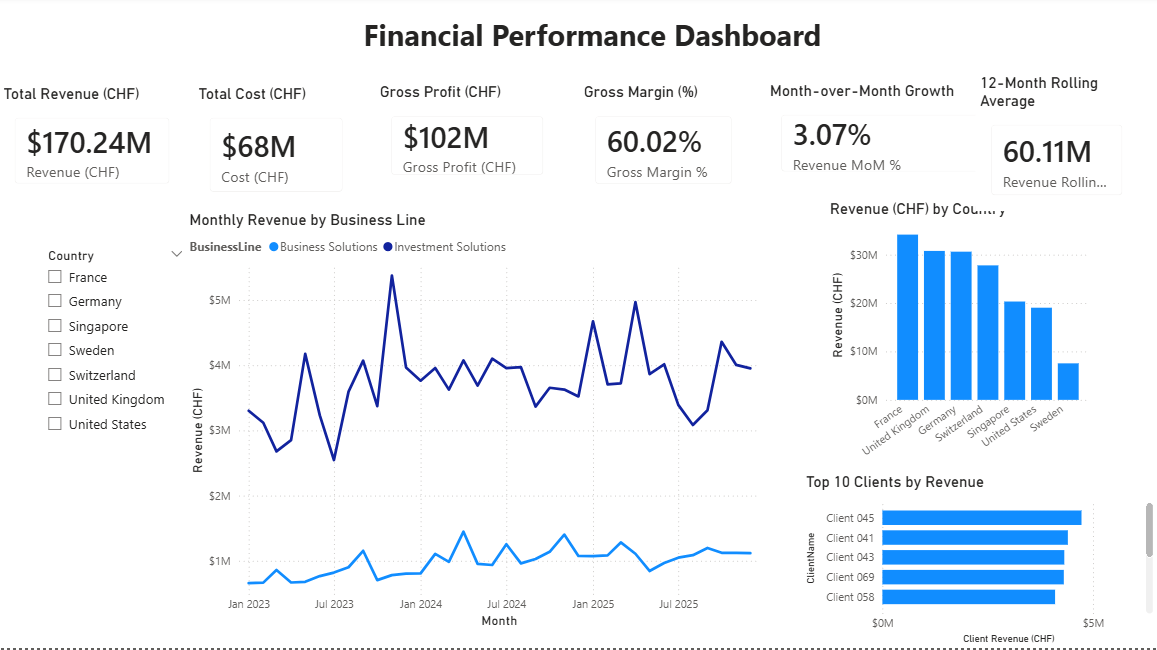

Layout of this report page (visuals, bound fields, positions):
{"tool":"powerbi","page":{"name":"Executive Overview","canvas":[1280,720],"ordinal":0},"visuals":[{"type":"cardVisual","title":"Total Revenue (CHF)","fields":{"Data":["_measures.Revenue (CHF)"]},"box":[0,98.3,206,126.6],"z":0},{"type":"slicer","fields":{"Values":["Dim_Country.Country"]},"box":[41.4,273.3,173.9,223.6],"z":1000},{"type":"cardVisual","title":"Total Cost (CHF)","fields":{"Data":["_measures.Cost (CHF)"]},"box":[215.4,98.3,181.4,136.1],"z":2000},{"type":"cardVisual","title":"Gross Margin (%)","fields":{"Data":["_measures.Gross Margin %"]},"box":[640.6,96.4,185.2,128.5],"z":3000},{"type":"cardVisual","title":"Gross Profit (CHF)","fields":{"Data":["_measures.Gross Profit (CHF)"]},"box":[415.8,96.4,202.2,119.1],"z":4000},{"type":"lineChart","title":"Monthly Revenue by Business Line","fields":{"Category":["Dim_Date.YearMonth"],"Series":["Fact_Transactions.BusinessLine"],"Y":["_measures.Revenue (CHF)"]},"box":[205.4,236.9,651,465.5],"z":5000},{"type":"clusteredColumnChart","fields":{"Category":["Dim_Country.Country"],"Y":["_measures.Revenue (CHF)"]},"box":[912.8,224.9,296.7,319.4],"z":6000},{"type":"textbox","box":[396.9,15.1,542.4,79.4],"z":7000},{"type":"cardVisual","title":"Month-over-Month Growth","fields":{"Data":["_measures.Revenue MoM %"]},"box":[846.6,94.5,253.2,117.2],"z":7001},{"type":"cardVisual","title":"12-Month Rolling Average","fields":{"Data":["_measures.Revenue Rolling 12M"]},"box":[1079.1,86.9,179.5,151.2],"z":7002},{"type":"clusteredBarChart","title":"Top 10 Clients by Revenue","fields":{"Category":["Dim_Client.ClientName"],"Y":["_measures.Client Revenue (CHF)"]},"box":[886.3,527.2,393.1,192.8],"z":7003}]}

Visuals, with their boxes in screenshot pixels (x1, y1, x2, y2), scaled from the page's 1280x720 canvas onto the 1157x650 screenshot:
"Total Revenue (CHF)" cardVisual: 0 89 186 203
slicer - Dim_Country.Country: 37 247 195 449
"Total Cost (CHF)" cardVisual: 195 89 359 212
"Gross Margin (%)" cardVisual: 579 87 746 203
"Gross Profit (CHF)" cardVisual: 376 87 559 195
"Monthly Revenue by Business Line" lineChart: 186 214 774 634
clusteredColumnChart - Dim_Country.Country x _measures.Revenue (CHF): 825 203 1093 491
textbox: 359 14 849 85
"Month-over-Month Growth" cardVisual: 765 85 994 191
"12-Month Rolling Average" cardVisual: 975 78 1138 215
"Top 10 Clients by Revenue" clusteredBarChart: 801 476 1156 649
